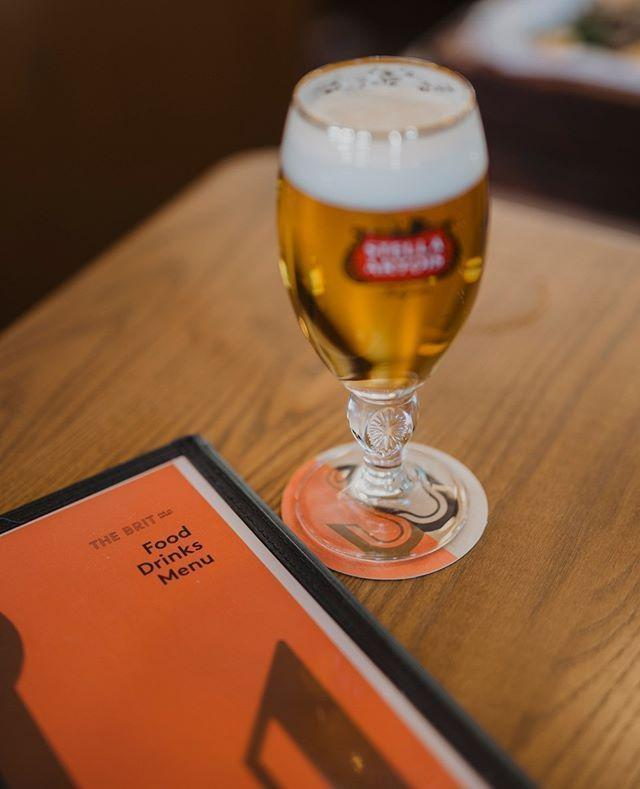glass-wine: (273, 55, 493, 578)
